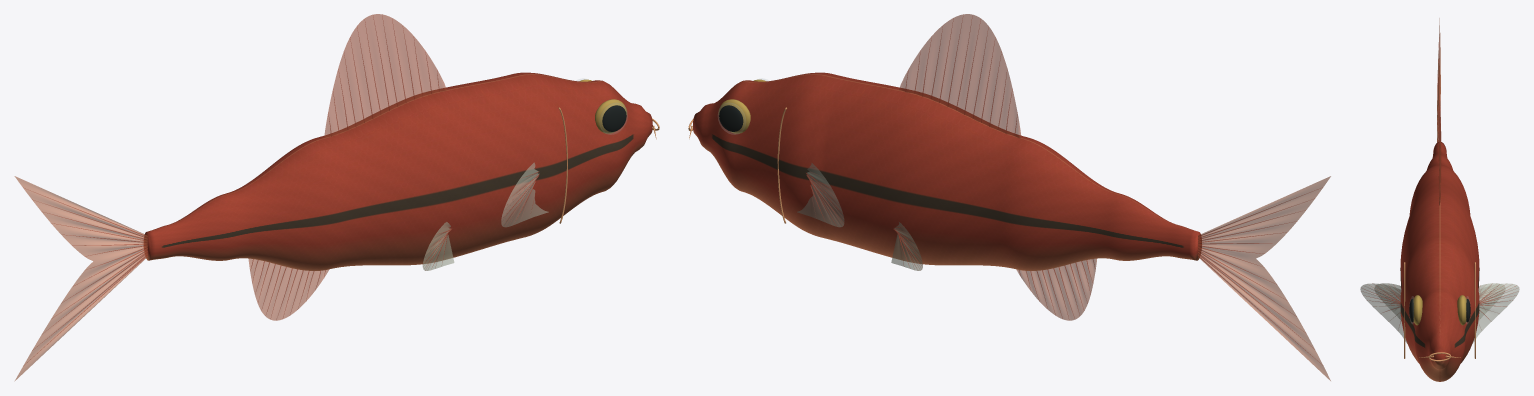
File: cherry-desktop.glb
The picture shows the model from 3 angles, left to right: view 1: azimuth 30°, elevation 25°; view 2: azimuth 150°, elevation 25°; view 3: azimuth 270°, elevation 25°; orthographic projection. The views are drawn at different scales.
Visible parts, largest first — view 1: skin, dorsal, tail, dorsal-ray, anal, pectoral-left, pelvic-left; view 2: skin, dorsal, tail, dorsal-ray, anal, pectoral-left, pelvic-left; view 3: skin, pectoral-left, pelvic-left, dorsal-ray, eye-iris--1, operculum, tail, eye-pupil--1, dorsal.
Boxes of the visible parts, bbox=[...] form: skin: bbox=[144, 72, 652, 270]; dorsal: bbox=[324, 14, 446, 137]; tail: bbox=[14, 176, 147, 380]; dorsal-ray: bbox=[27, 15, 539, 362]; anal: bbox=[248, 258, 329, 320]; pectoral-left: bbox=[501, 162, 548, 227]; pelvic-left: bbox=[422, 222, 454, 270]; skin: bbox=[693, 72, 1201, 270]; dorsal: bbox=[899, 14, 1021, 138]; tail: bbox=[1198, 176, 1330, 380]; dorsal-ray: bbox=[806, 16, 1322, 363]; anal: bbox=[1016, 258, 1096, 320]; pectoral-left: bbox=[797, 163, 844, 227]; pelvic-left: bbox=[891, 222, 922, 270]; skin: bbox=[1400, 142, 1479, 381]; pectoral-left: bbox=[1360, 283, 1519, 343]; pelvic-left: bbox=[1375, 283, 1504, 320]; dorsal-ray: bbox=[1364, 37, 1516, 325]; eye-iris--1: bbox=[1413, 295, 1466, 325]; operculum: bbox=[1404, 262, 1475, 361]; tail: bbox=[1437, 18, 1440, 142]; eye-pupil--1: bbox=[1409, 299, 1470, 322]; dorsal: bbox=[1439, 101, 1440, 205].
Bounding box in the file's own units: 0.6032 × 0.2552 × 0.1571.
11 materials, 1 textured.
